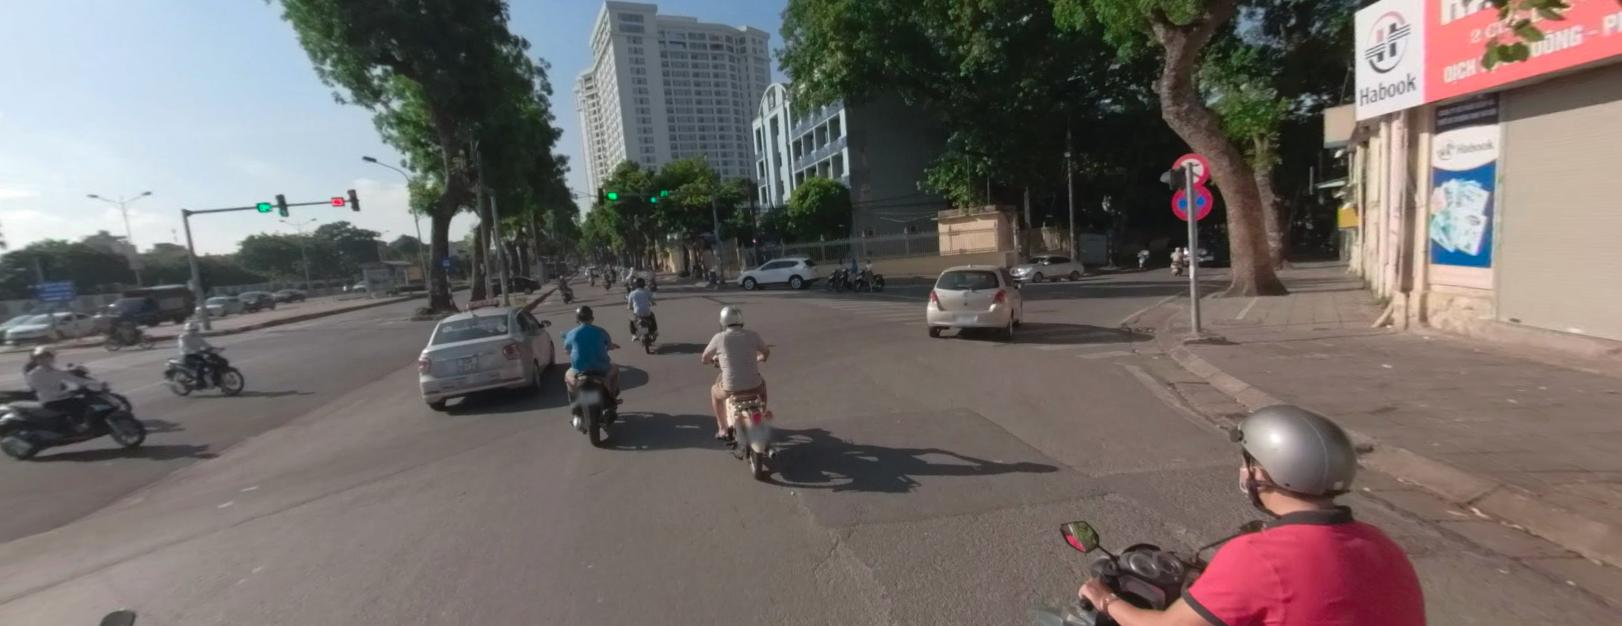Cam con lai: (1169, 151, 1208, 183)
Cam dung va do: (1170, 184, 1212, 219)
